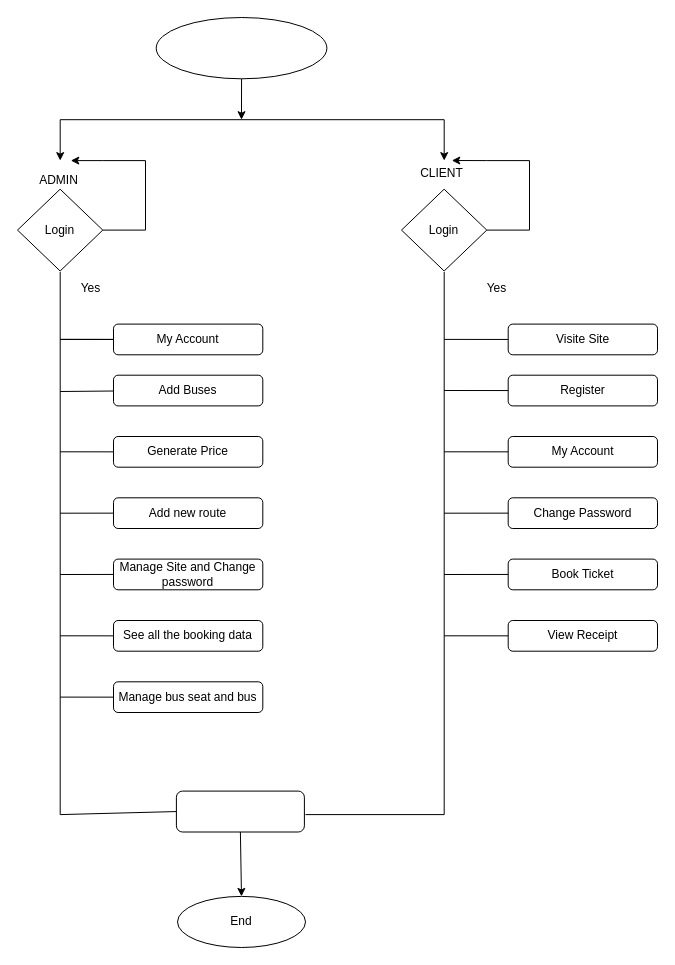
Some shapes in this 675 by 965 pixel diagram are drawn without their labels. The shapes that lost their labels are listed below. From the top down, each one's centre as x and y in pixels, then its label:
At pixel 241 47: "Start".
At pixel 239 811: "Logout".
